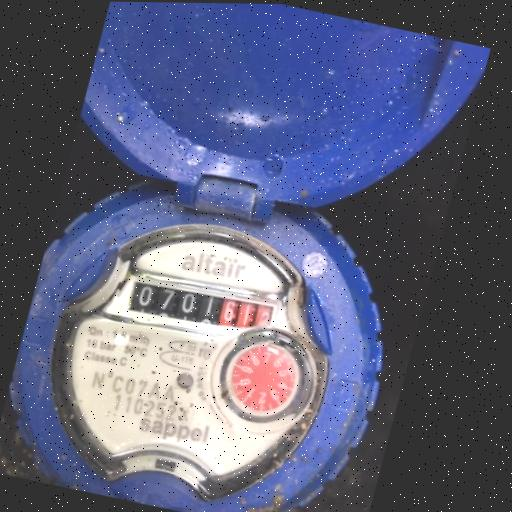0: (127, 280, 164, 316), (174, 288, 205, 322)
1: (194, 292, 225, 327), (234, 302, 258, 332)
2: (251, 303, 275, 330)
6: (217, 296, 242, 329)
7: (153, 284, 184, 320)
border_water_meter_number: (97, 264, 287, 351)
